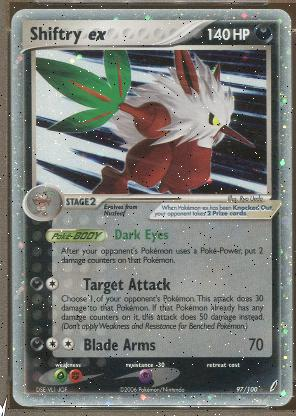Card: (6, 7, 292, 407)
